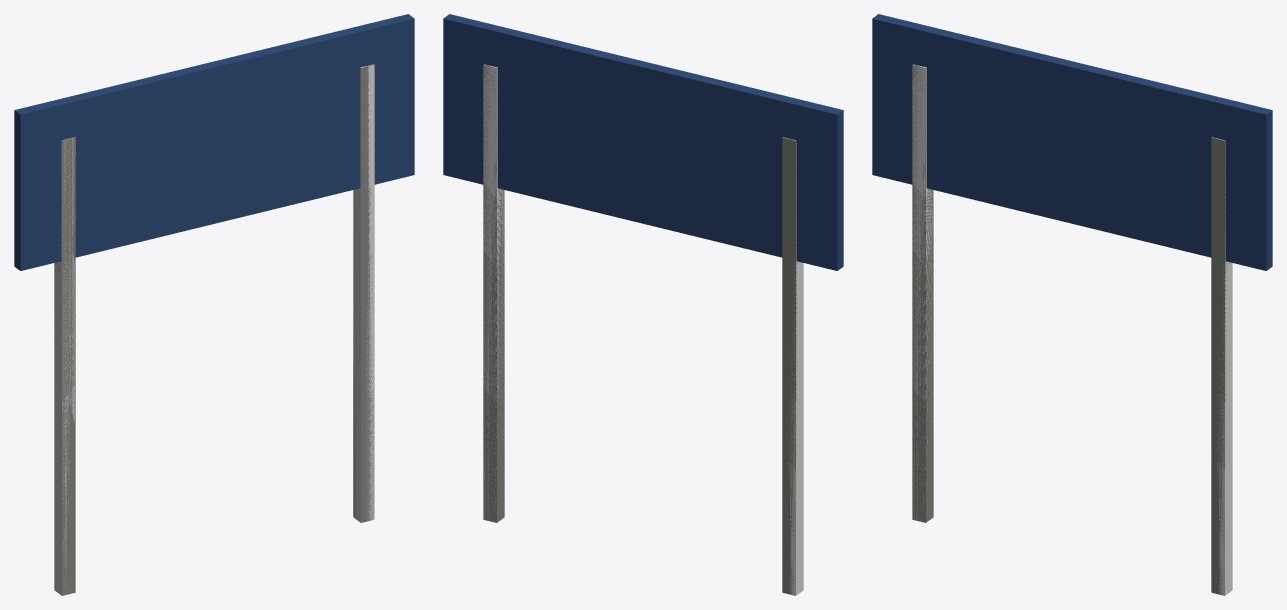
File: km-sign.glb
The picture shows the model from 3 angles, left to right: view 1: azimuth 30°, elevation 25°; view 2: azimuth 150°, elevation 25°; view 3: azimuth 330°, elevation 25°; orthographic projection.
Parts seen in each view (by area): view 1: 01_#2c4a7a_noshadow, 00_#8a8a84, solid.001, solid; view 2: 01_#2c4a7a_noshadow, 00_#8a8a84, solid.001, solid; view 3: 01_#2c4a7a_noshadow, 00_#8a8a84, solid, solid.001.
Boxes of the visible parts, x1,y1,x2,y2 form: 01_#2c4a7a_noshadow: [14, 14, 414, 270]; 00_#8a8a84: [54, 64, 374, 595]; solid.001: [353, 64, 374, 522]; solid: [54, 137, 75, 595]; 01_#2c4a7a_noshadow: [443, 14, 843, 270]; 00_#8a8a84: [483, 64, 796, 594]; solid.001: [483, 65, 504, 522]; solid: [786, 139, 803, 595]; 01_#2c4a7a_noshadow: [872, 14, 1272, 270]; 00_#8a8a84: [912, 64, 1227, 594]; solid: [912, 65, 933, 522]; solid.001: [1215, 138, 1232, 595].
Bounding box in the file's own units: 2.9 × 3.45 × 0.1.
